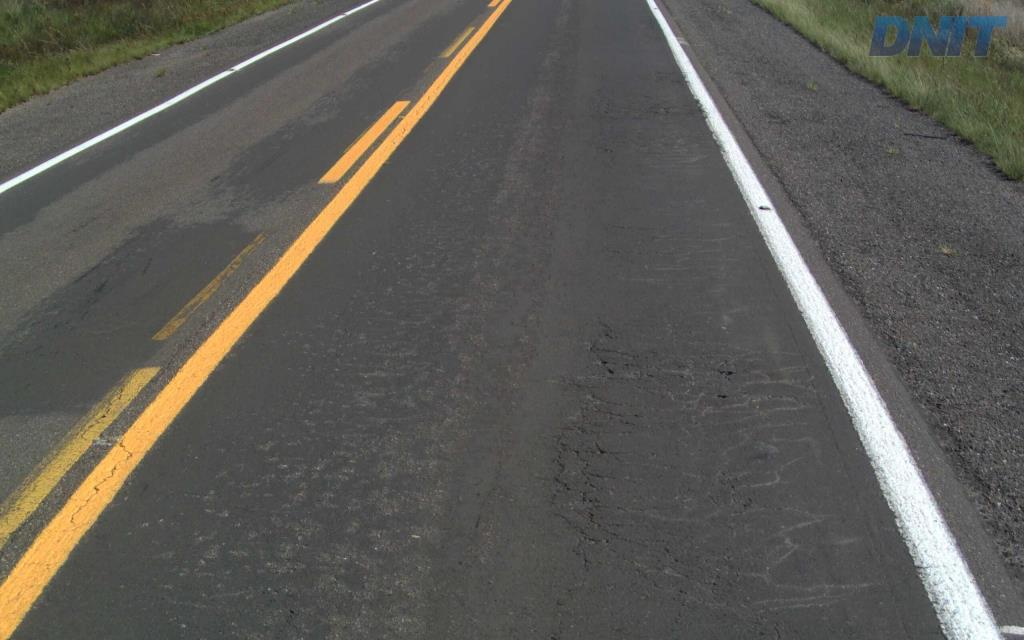crack: (551, 432, 610, 491), (577, 490, 619, 543)
